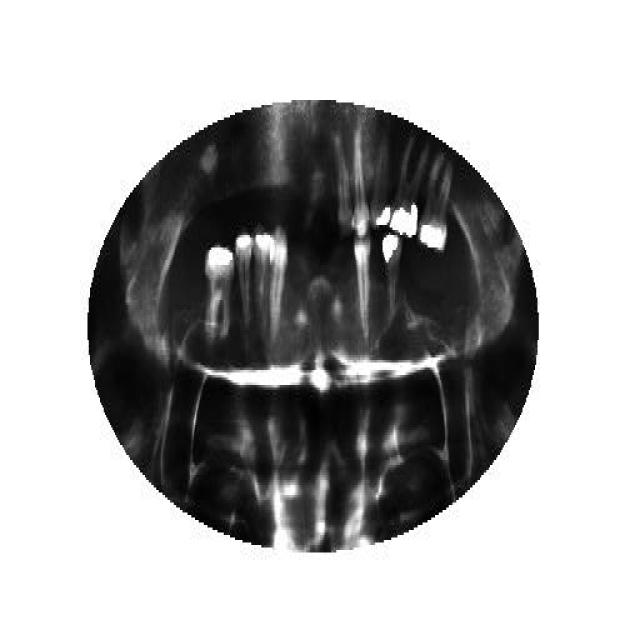Fillings: (391, 132, 431, 238), (420, 153, 454, 255), (205, 245, 235, 345), (370, 122, 392, 232), (234, 232, 255, 338), (381, 232, 404, 322)
